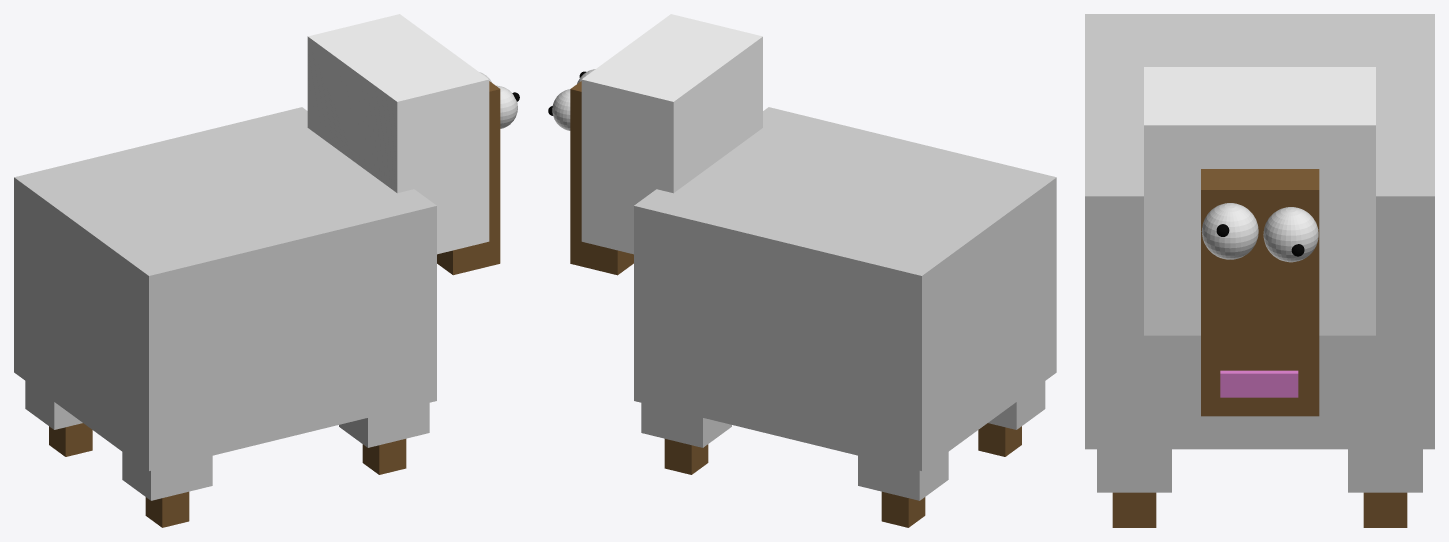
The model's file is ove4ka.fbx.
3 renders of one model, left to right at view 1: azimuth 30°, elevation 25°; view 2: azimuth 150°, elevation 25°; view 3: azimuth 270°, elevation 25°, orthographic. The views are drawn at different scales.
Visible parts, largest first — view 1: Cube, Cube.001, Cube.002, Cube.004, Cube.003, Cube.006, Cube.007, Cube.008, Cube.010, Sphere.002; view 2: Cube, Cube.001, Cube.002, Cube.006, Cube.005, Cube.004, Cube.009, Cube.010, Cube.008, Sphere.003; view 3: Cube, Cube.001, Cube.002, Cube.003, Cube.005, Sphere.002, Sphere.003, Cube.011, Cube.007, Cube.009.
Part boxes in pixels (x1=…): Cube: x1=14, y1=107, x2=436, y2=470; Cube.001: x1=307, y1=14, x2=489, y2=254; Cube.002: x1=437, y1=81, x2=500, y2=275; Cube.004: x1=122, y1=452, x2=212, y2=500; Cube.003: x1=339, y1=403, x2=429, y2=447; Cube.006: x1=25, y1=381, x2=82, y2=429; Cube.007: x1=362, y1=439, x2=406, y2=474; Cube.008: x1=145, y1=491, x2=189, y2=527; Cube.010: x1=49, y1=423, x2=92, y2=456; Sphere.002: x1=496, y1=85, x2=517, y2=128; Cube: x1=634, y1=107, x2=1056, y2=470; Cube.001: x1=581, y1=14, x2=762, y2=254; Cube.002: x1=570, y1=81, x2=633, y2=275; Cube.006: x1=858, y1=452, x2=948, y2=500; Cube.005: x1=641, y1=403, x2=731, y2=447; Cube.004: x1=988, y1=381, x2=1045, y2=429; Cube.009: x1=664, y1=439, x2=708, y2=474; Cube.010: x1=881, y1=491, x2=925, y2=527; Cube.008: x1=978, y1=423, x2=1021, y2=456; Sphere.003: x1=552, y1=89, x2=570, y2=130; Cube: x1=1085, y1=14, x2=1434, y2=449; Cube.001: x1=1144, y1=67, x2=1375, y2=335; Cube.002: x1=1201, y1=169, x2=1319, y2=416; Cube.003: x1=1097, y1=449, x2=1171, y2=492; Cube.005: x1=1348, y1=449, x2=1422, y2=492; Sphere.002: x1=1201, y1=203, x2=1258, y2=259; Sphere.003: x1=1263, y1=207, x2=1318, y2=262; Cube.011: x1=1220, y1=370, x2=1298, y2=397; Cube.007: x1=1112, y1=492, x2=1156, y2=527; Cube.009: x1=1363, y1=492, x2=1407, y2=527.
Bounding box in the file's own units: 296 × 237 × 162.
